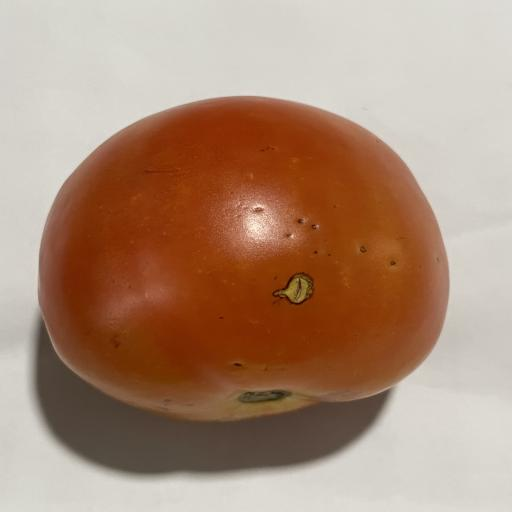ripe: (39, 97, 449, 421)
